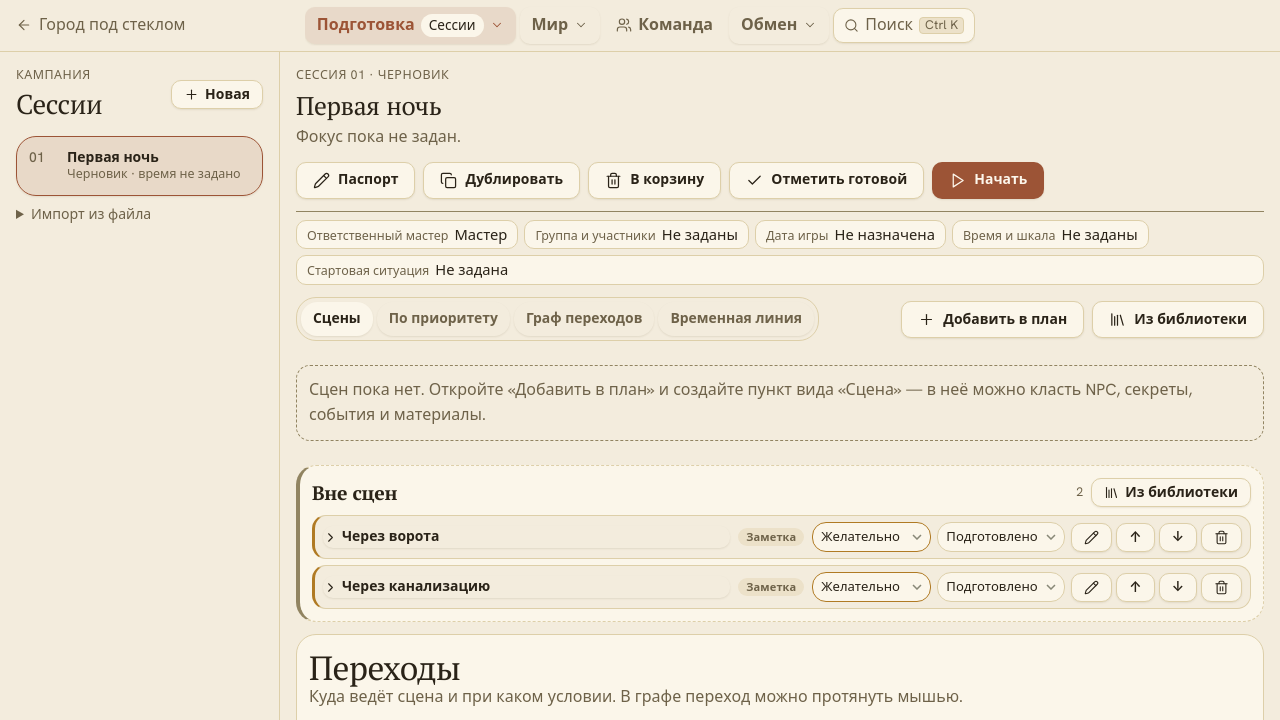
Test case: stage 3: plan › groups items as alternatives and skips the rest when one is played
This screenshot has width=1280, height=720.
Click the button "Через ворота" at (391, 536), box [323, 526, 730, 548]
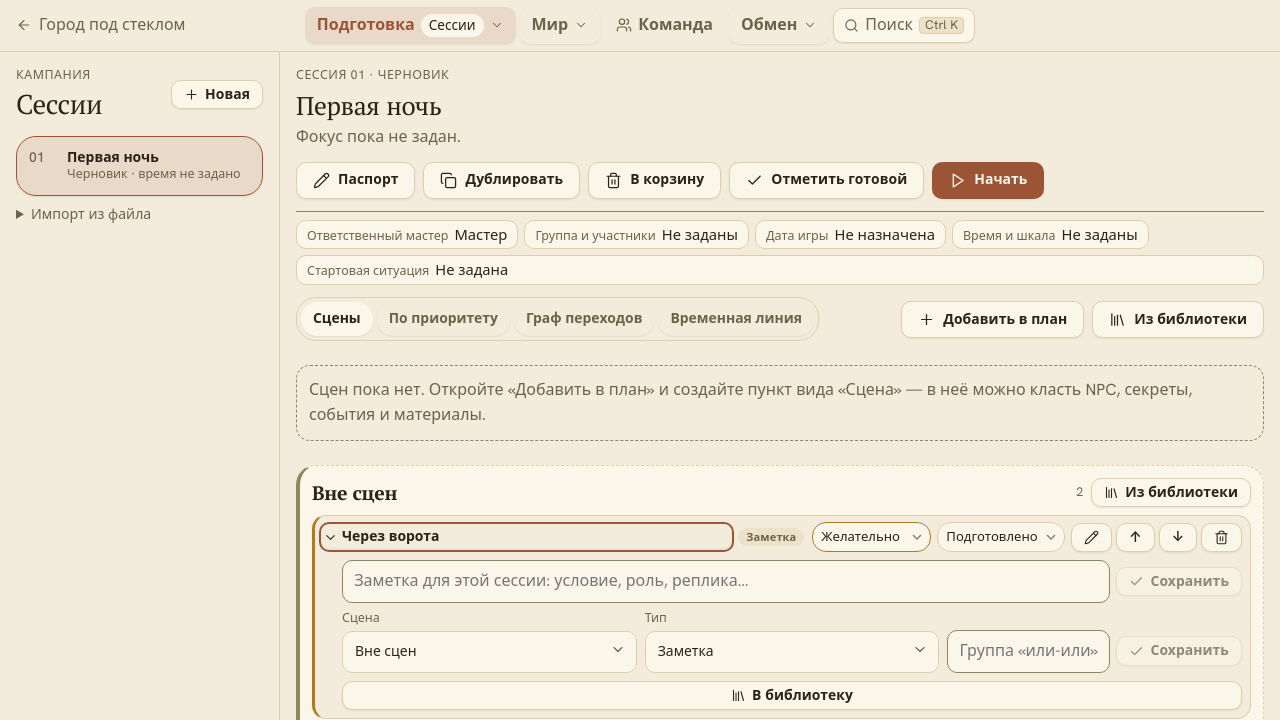
Type "вход" into the field with placeholder "Группа «или-или»" at (1029, 651), box [947, 630, 1110, 672]
Then press Enter
(page scrolled)
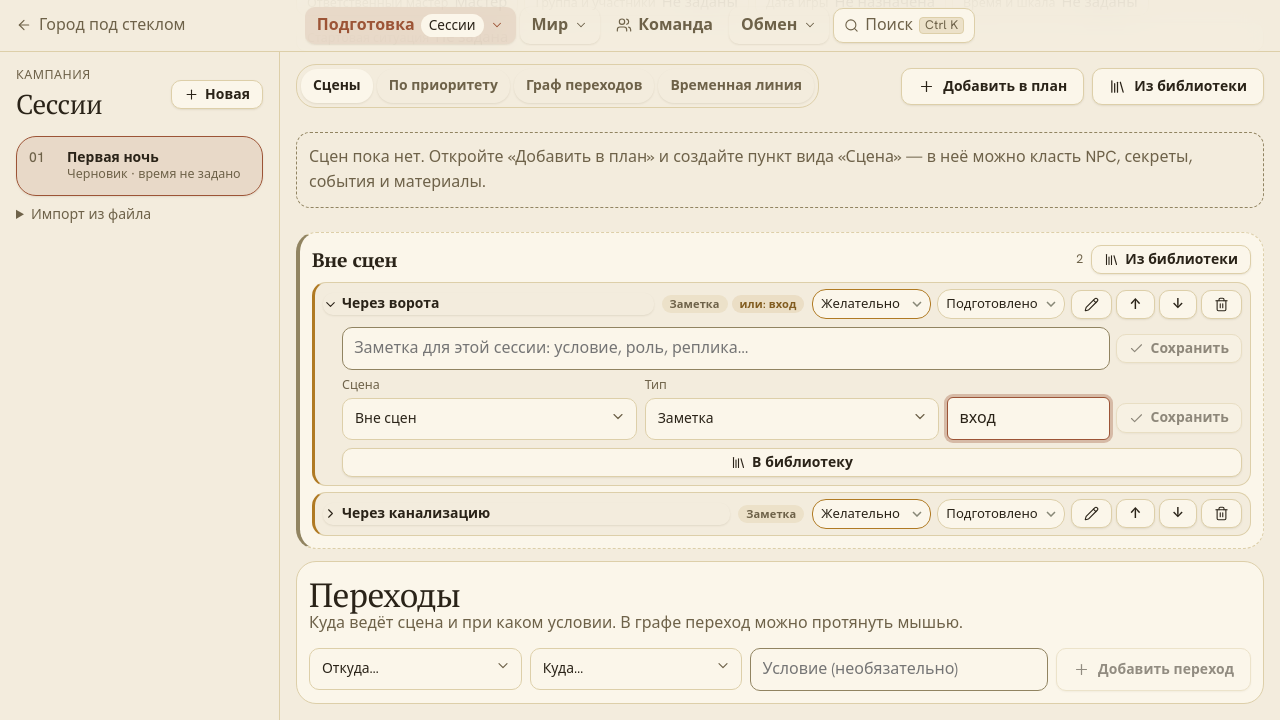
Click the button "Через канализацию" at (416, 513), box [323, 503, 730, 525]
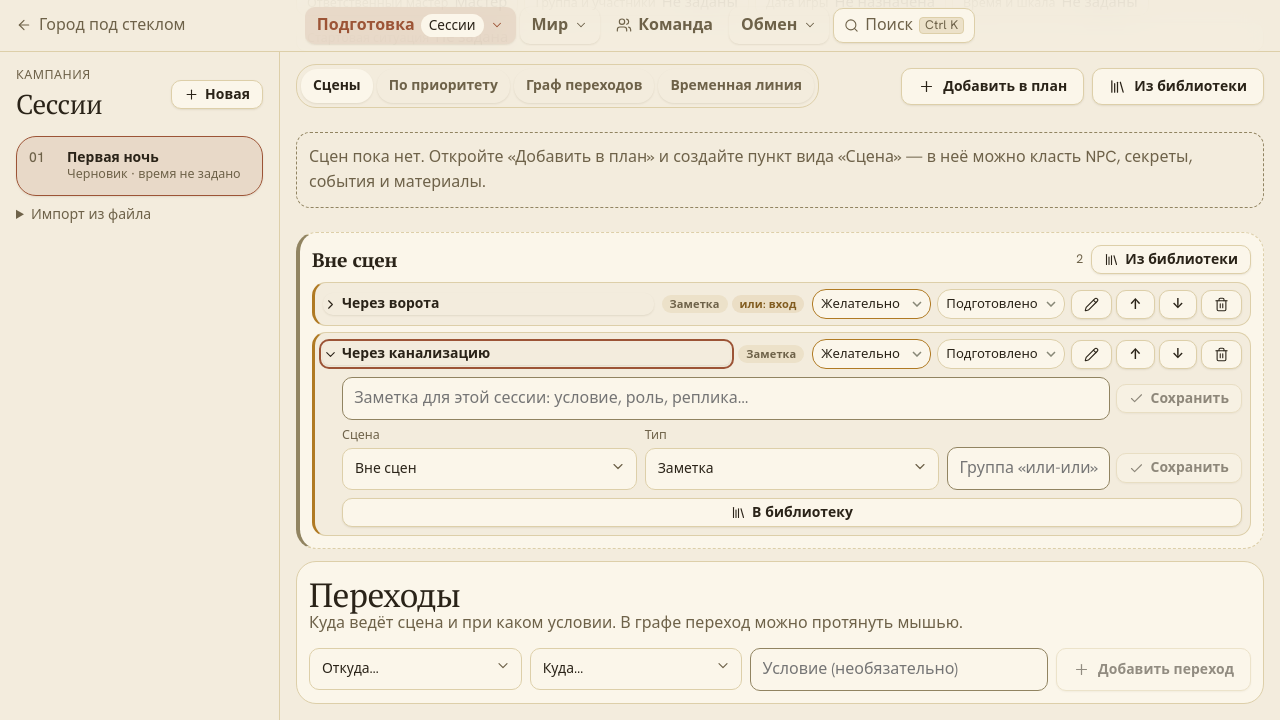
Type "вход" into the field with placeholder "Группа «или-или»" at (1029, 468), box [947, 447, 1110, 490]
Then press Enter
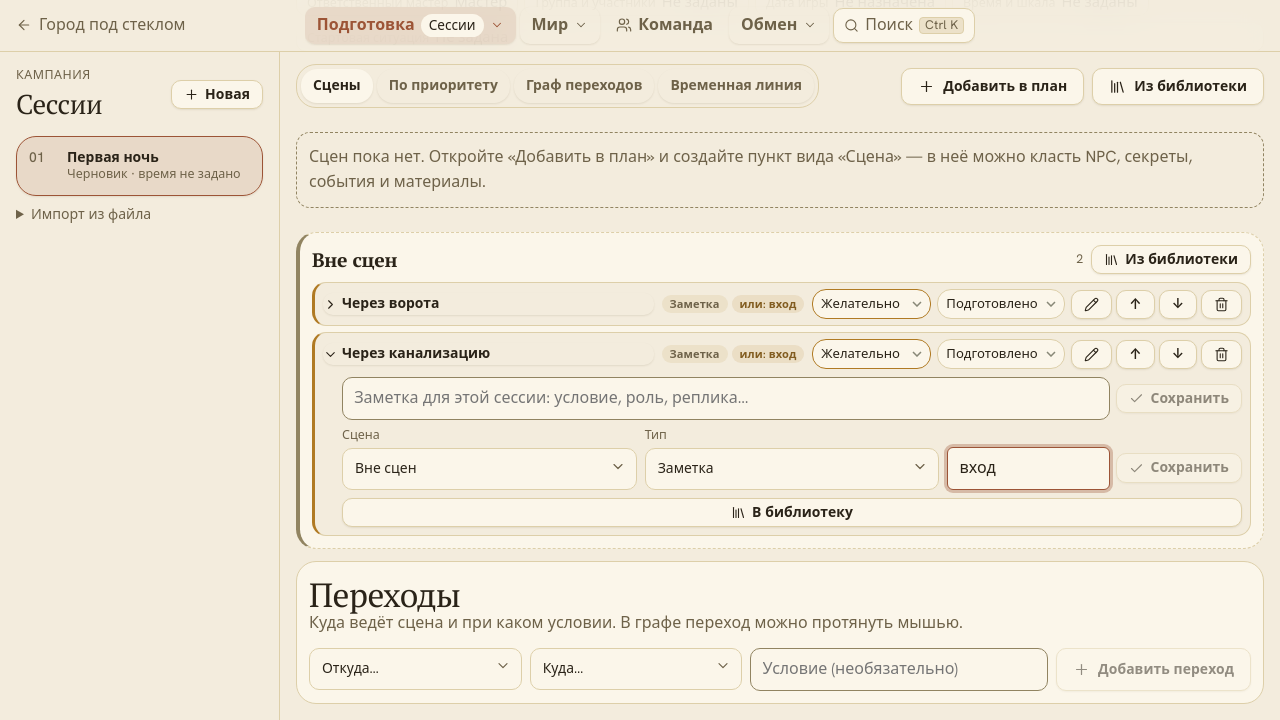
Select "Использовано" in the dropdown named "Статус Через ворота" at (1001, 304), box [937, 289, 1065, 319]
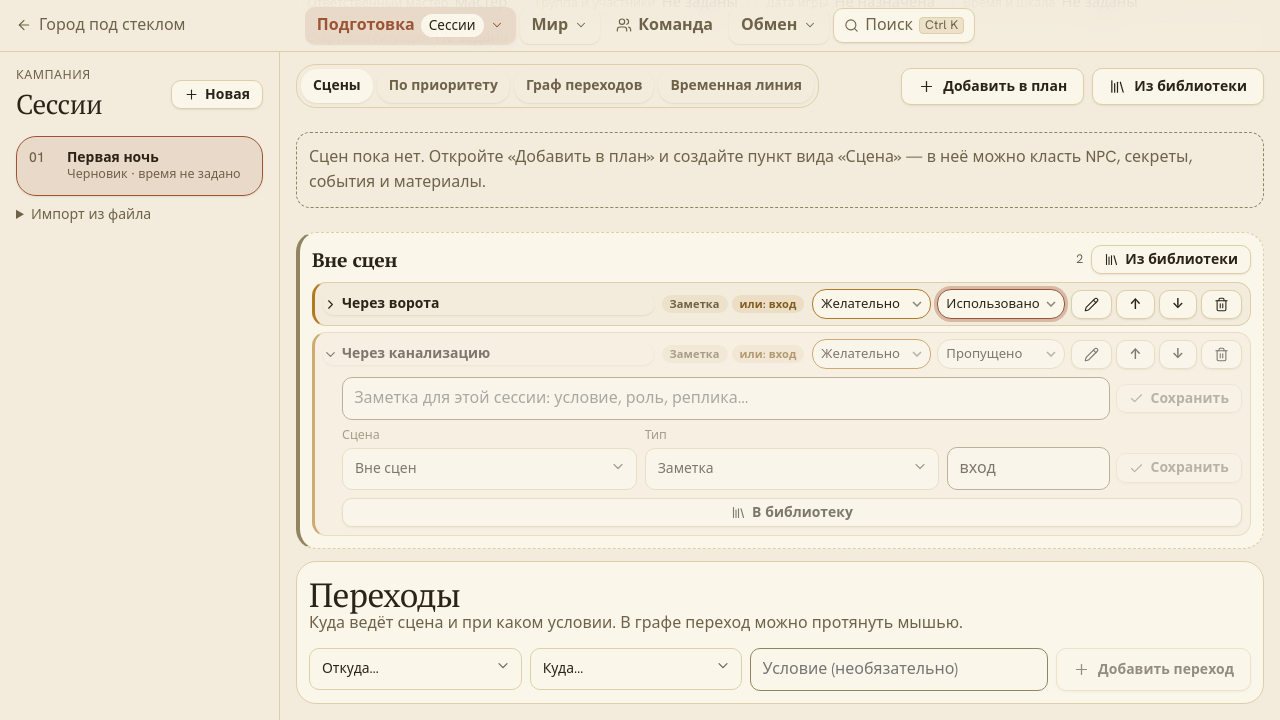
Now the dropdown named "Статус Через канализацию" shows "Пропущено", box [937, 339, 1065, 369]
